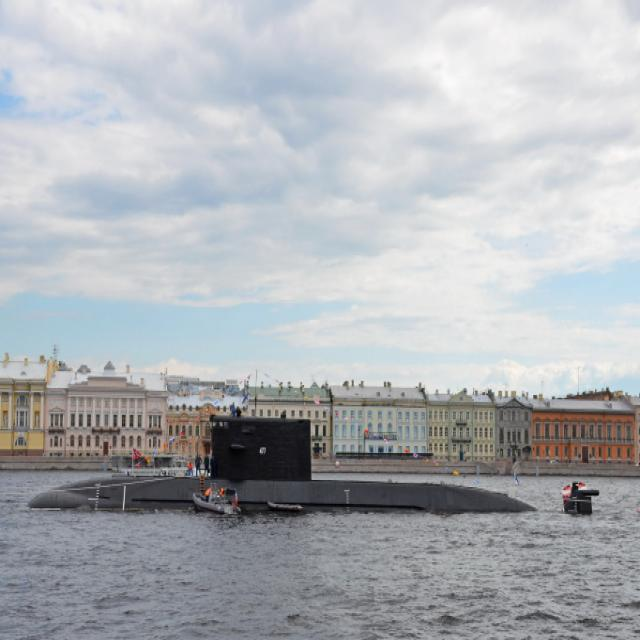submarine: (31, 412, 596, 518)
